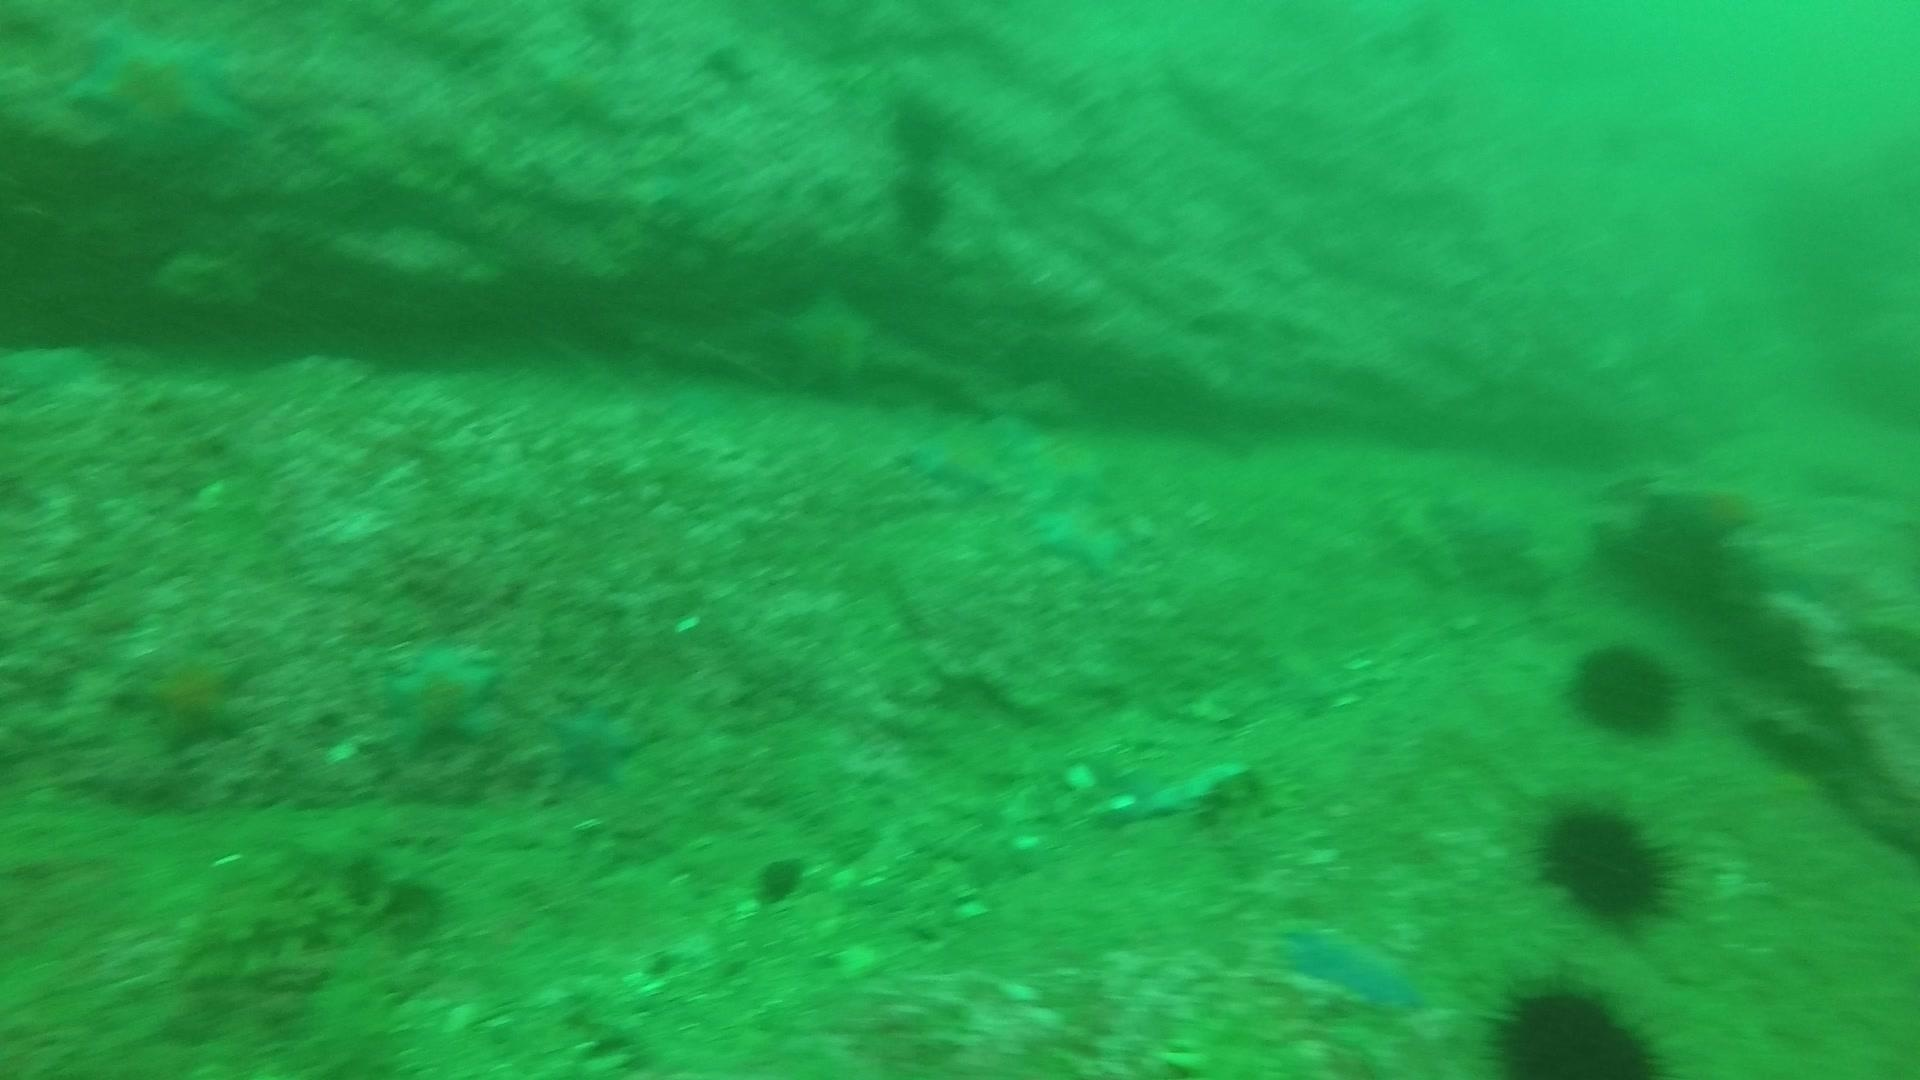echinus: (1528, 794, 1684, 928), (1482, 971, 1669, 1077), (1561, 636, 1687, 742), (881, 86, 963, 167), (884, 166, 956, 243), (745, 849, 815, 913)
holothurian: (1373, 485, 1470, 597)
starfish: (62, 20, 252, 162), (371, 630, 509, 762), (116, 629, 260, 756), (1271, 913, 1433, 1017), (533, 688, 650, 796), (773, 284, 885, 396), (897, 411, 1021, 500), (1026, 487, 1142, 578), (1005, 422, 1120, 512), (1638, 476, 1753, 545)
